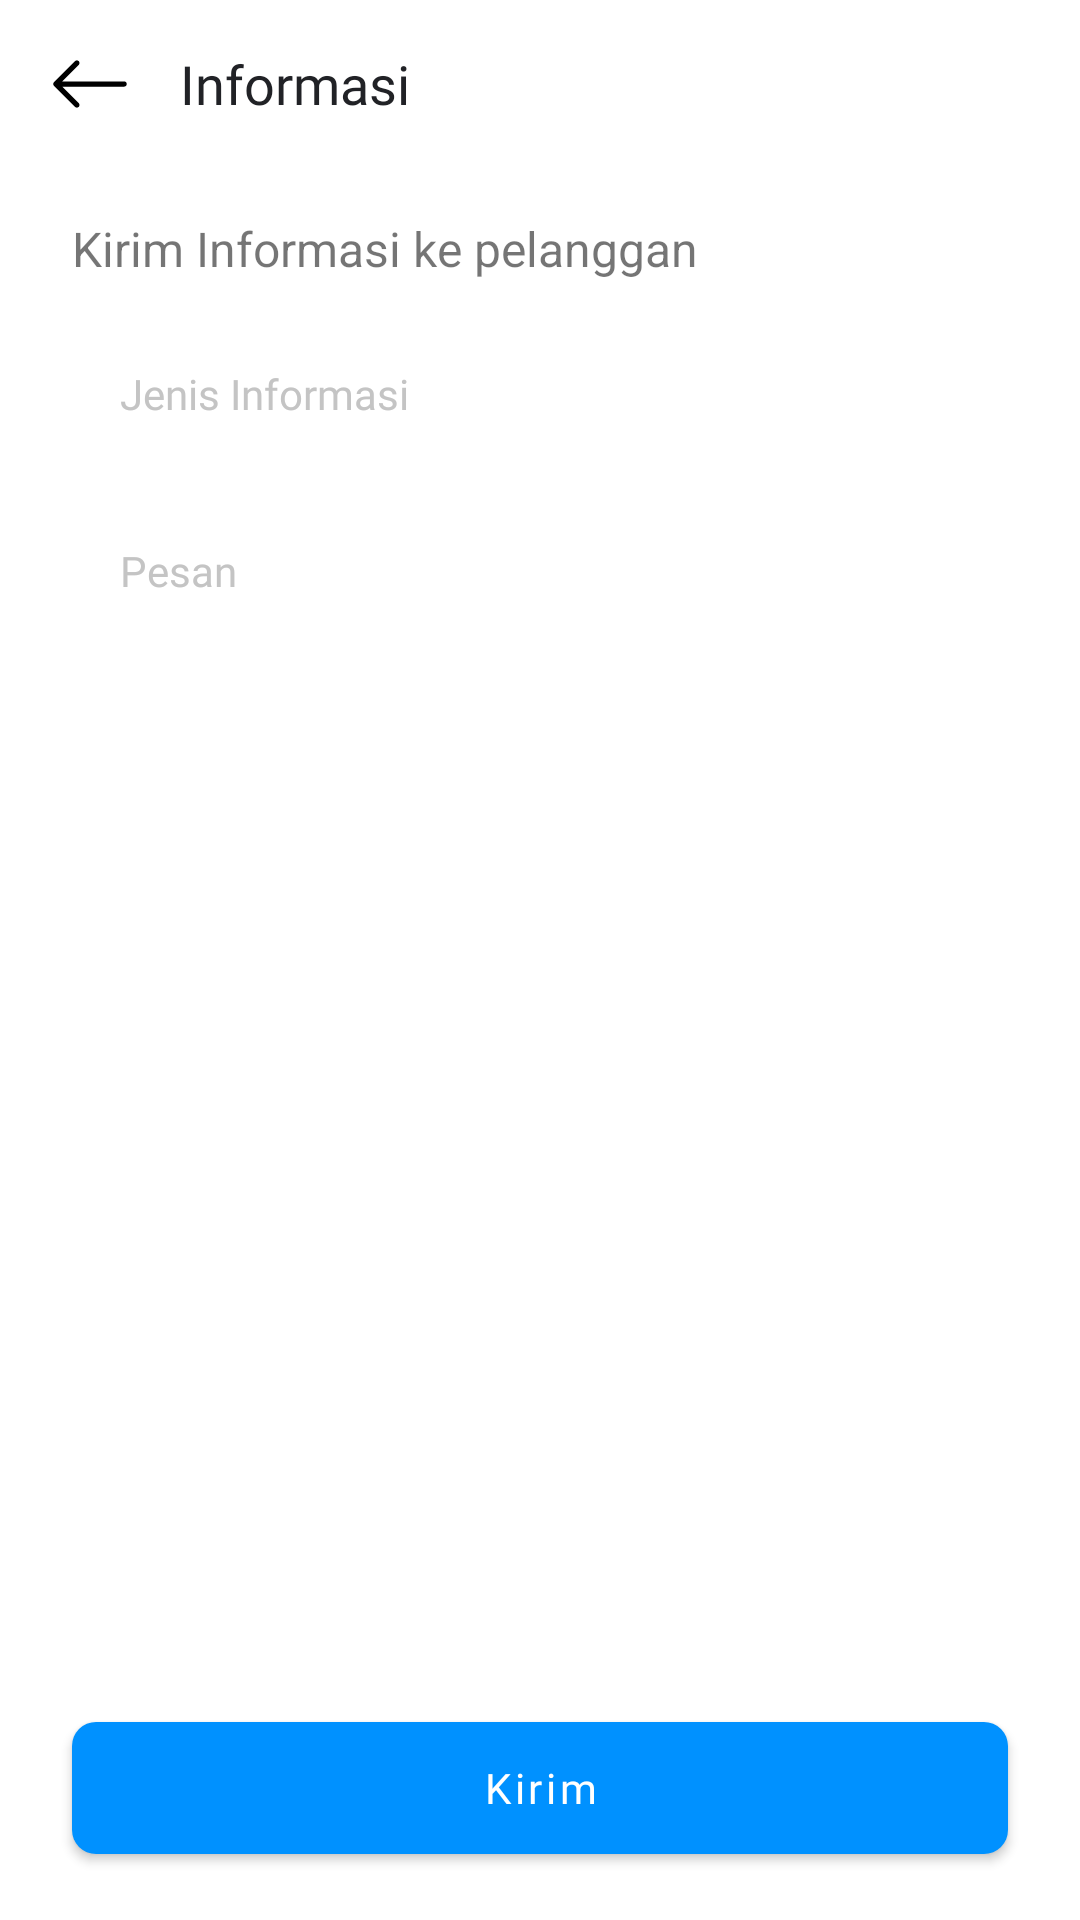

Named icons in this screenshot (1080 × 1920) and their bounding boxes, [x1,y1,x2,y2]:
arrow left: [53,60,127,108]
